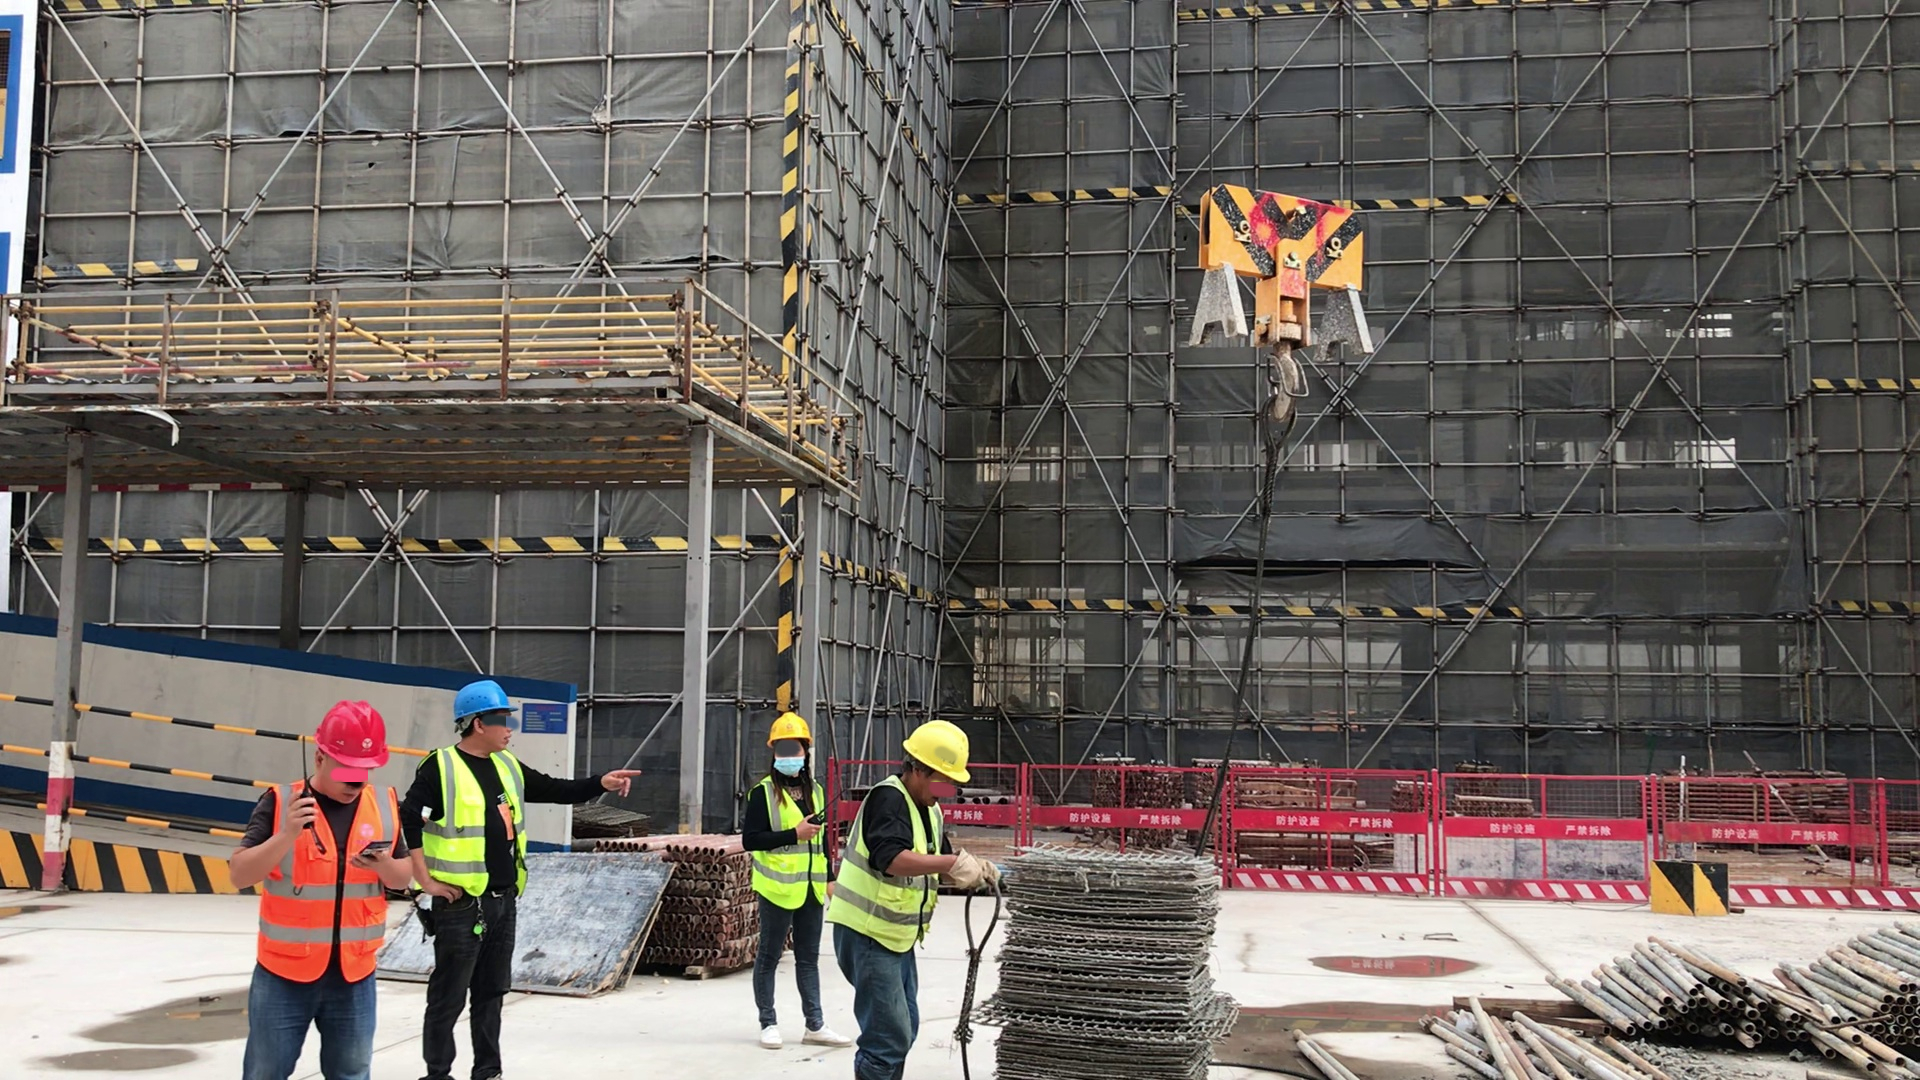fence: (1229, 762, 1648, 907), (1715, 761, 1920, 918), (80, 702, 222, 856), (997, 757, 1199, 856)
helmet: (314, 702, 392, 767), (900, 724, 975, 786), (451, 685, 514, 716), (769, 716, 811, 746)
hook: (1191, 178, 1369, 413)
person: (404, 682, 639, 1080), (223, 698, 415, 1080), (833, 719, 995, 1080), (732, 713, 849, 1053)
scaffold: (1540, 931, 1800, 1050), (1799, 917, 1920, 1079), (658, 835, 758, 980)
vest: (263, 774, 393, 985), (830, 779, 945, 956), (419, 746, 534, 900), (751, 778, 836, 916)
